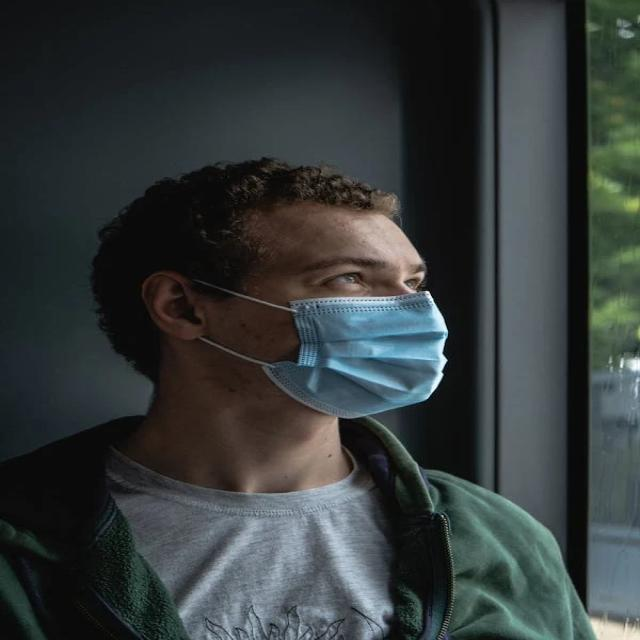mask: (120, 137, 493, 438)
